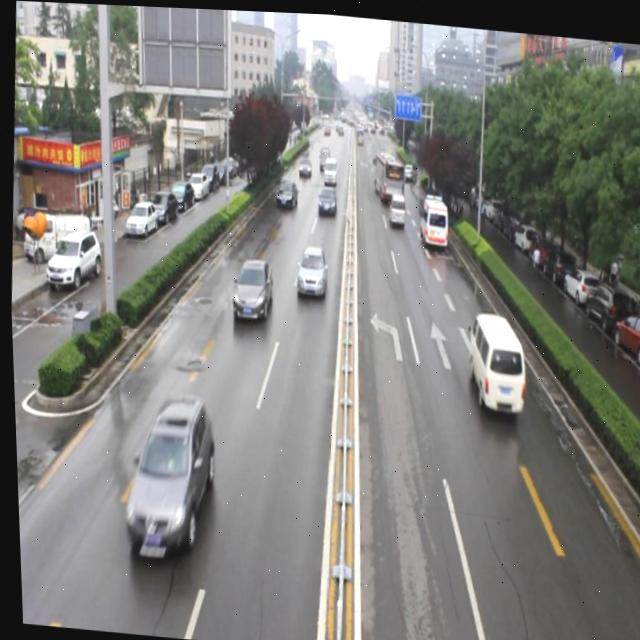car: (115, 392, 218, 561), (227, 255, 274, 325), (290, 242, 328, 297), (272, 177, 298, 210), (315, 183, 336, 213)
truck: (461, 305, 526, 414), (415, 191, 448, 247), (384, 188, 405, 228)
